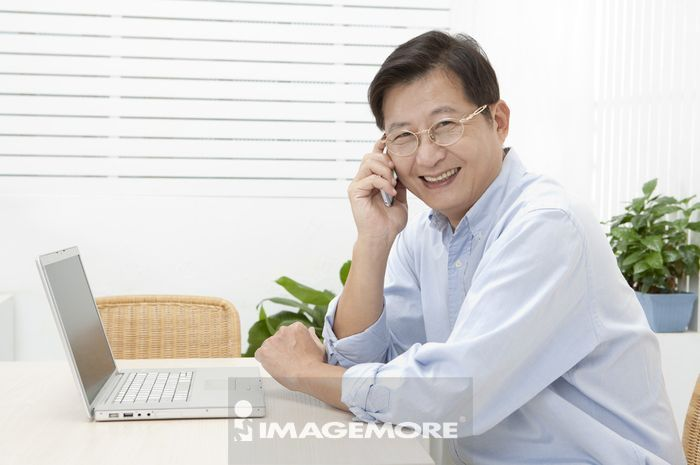talk: (345, 96, 477, 249)
